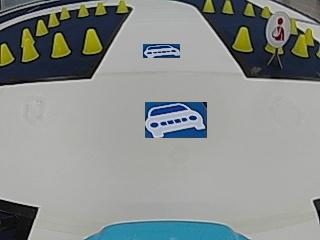cone: (81, 28, 102, 55), (50, 32, 71, 58), (21, 31, 38, 61), (233, 26, 253, 51), (293, 35, 308, 57), (0, 41, 14, 64), (36, 18, 48, 35), (115, 0, 128, 14), (94, 2, 106, 15), (77, 4, 89, 17), (222, 1, 234, 14), (260, 5, 272, 18), (203, 0, 215, 12), (244, 3, 255, 16), (49, 13, 59, 26), (60, 6, 70, 19), (290, 18, 297, 34)
patient: (265, 11, 291, 46)
